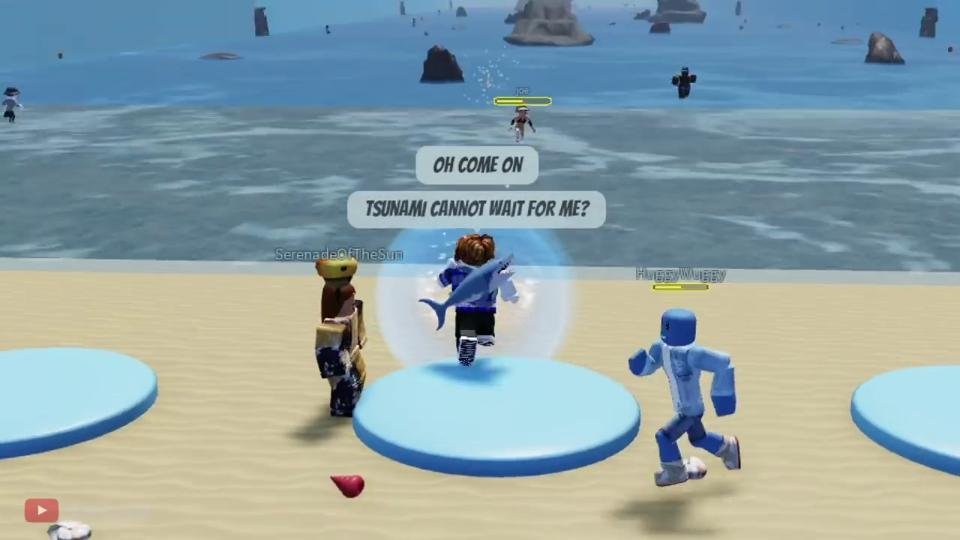Character: (627, 308, 742, 487), (436, 233, 519, 366), (314, 255, 369, 418), (509, 106, 537, 142), (671, 68, 697, 99), (1, 87, 23, 123)
